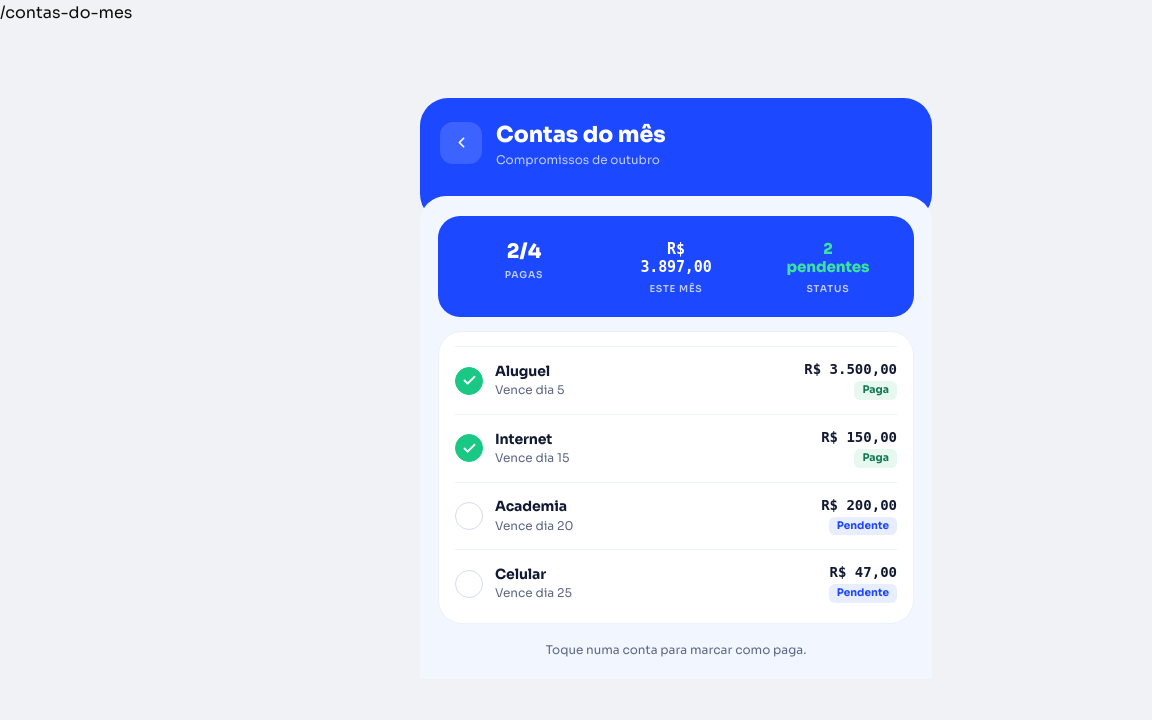
Test: Contas do mês — marcar como paga › erro ao pagar mostra a mensagem do servidor
The width and height of the screenshot is (1152, 720).
Click the button with aria-label "academia, pendente".
click(531, 506)  # box [455,483,897,549]
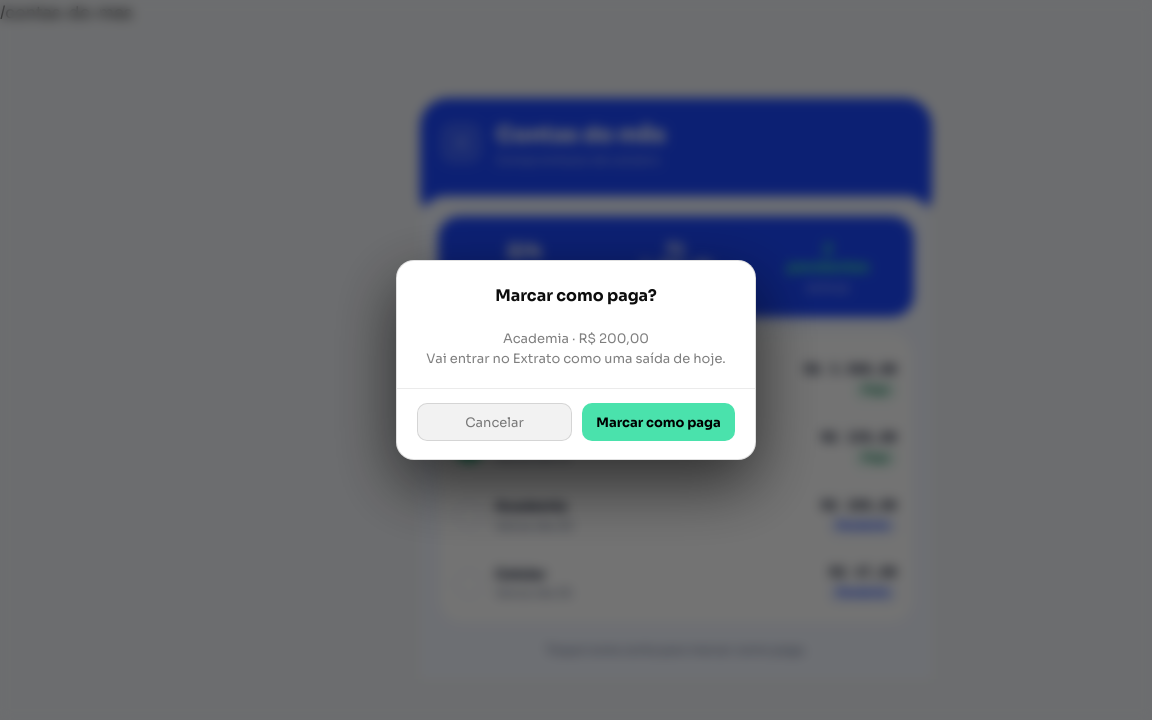
Click the button "Marcar como paga".
click(658, 422)  # box [582,403,735,441]
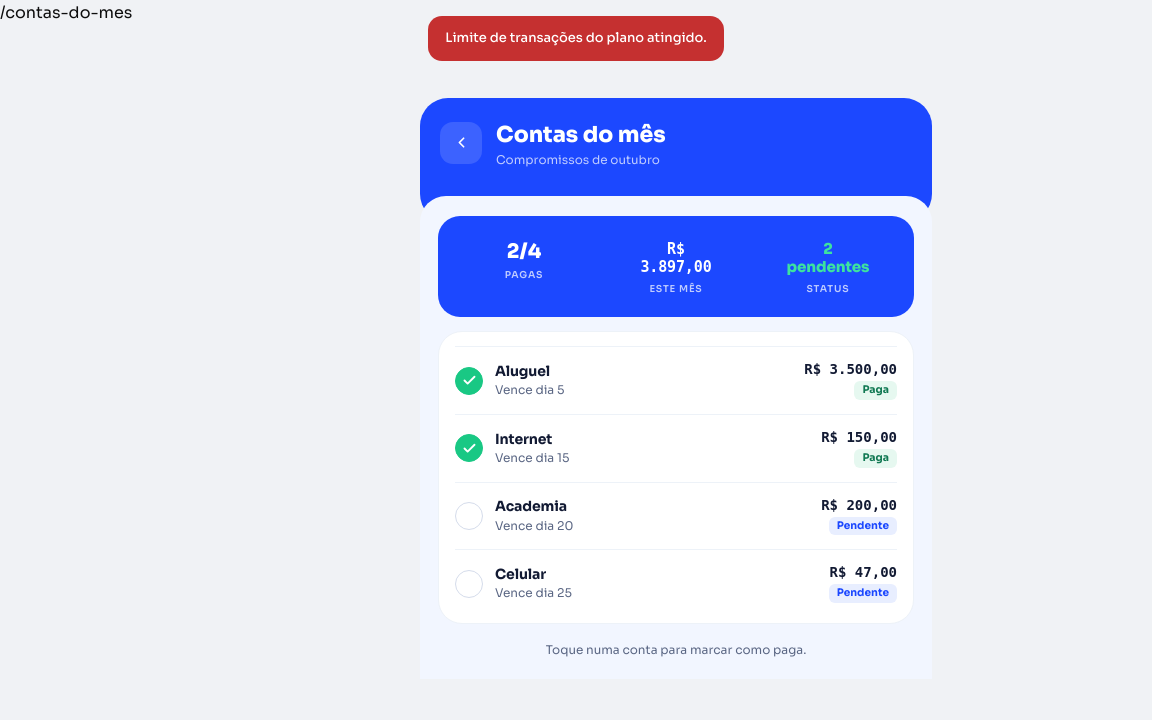
Now the text "Limite de transações do plano atingido." is shown, box [428,16,724,61]
